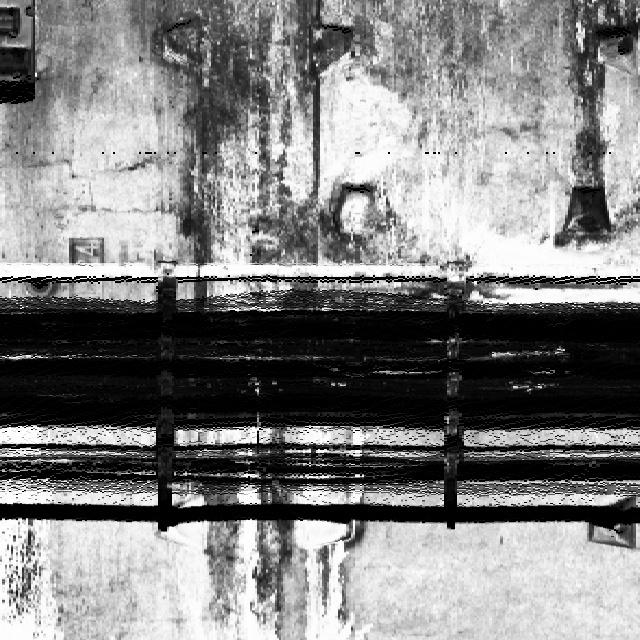leakage: (144, 1, 397, 290), (186, 419, 375, 639), (548, 0, 639, 194)
